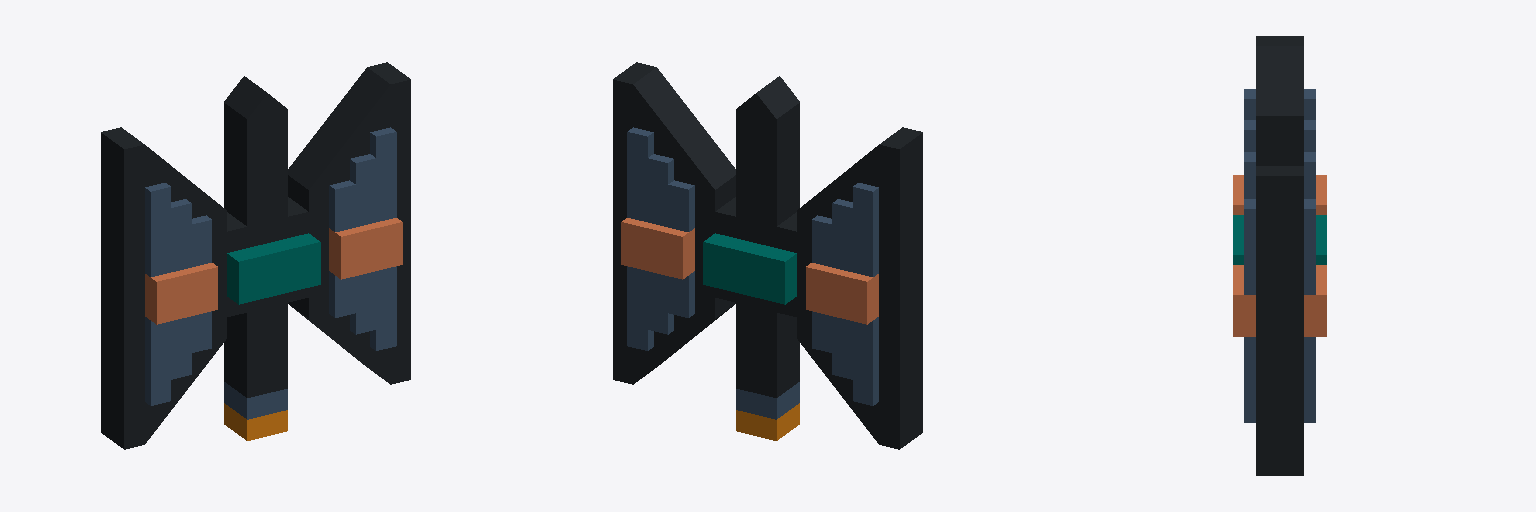
Rendered from Enemy4.obj.
3 views of the same model, side by side, from view 1: azimuth 30°, elevation 25°; view 2: azimuth 150°, elevation 25°; view 3: azimuth 270°, elevation 25° (orthographic).
Bounding box in the file's own units: 14 × 16 × 4.